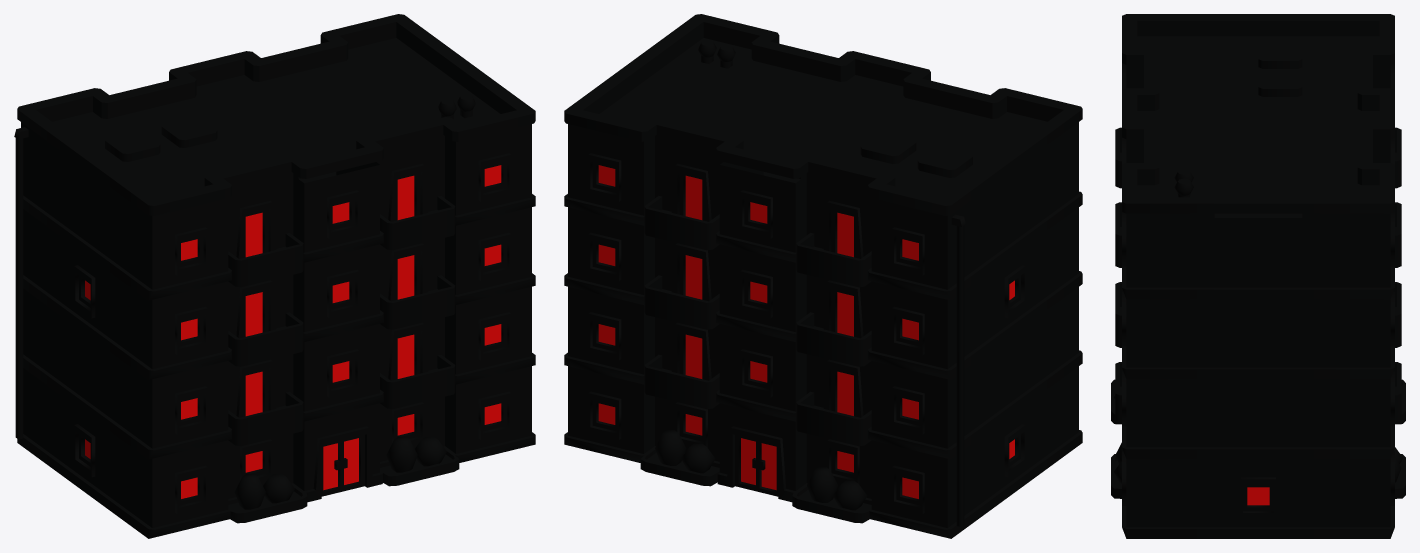
File: building-j.glb
The picture shows the model from 3 angles, left to right: view 1: azimuth 30°, elevation 25°; view 2: azimuth 150°, elevation 25°; view 3: azimuth 270°, elevation 25°; orthographic projection.
Parts seen in each view (by area): view 1: building-j; view 2: building-j; view 3: building-j.
Part boxes in pixels (x1=…): building-j: x1=14, y1=14, x2=535, y2=538; building-j: x1=564, y1=14, x2=1082, y2=538; building-j: x1=1111, y1=14, x2=1405, y2=538.
Size of the model in its own units: 2.08 by 1.69 by 1.34.
Materials: 1 (1 with a texture image).
